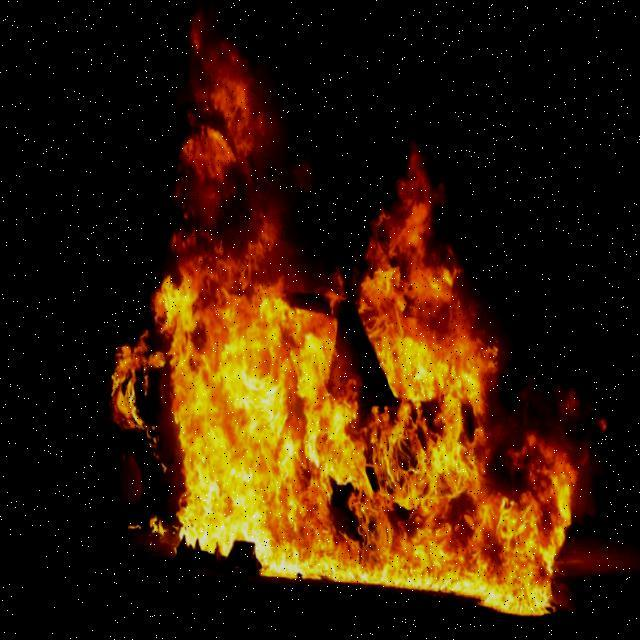Fire: (75, 6, 589, 616)
